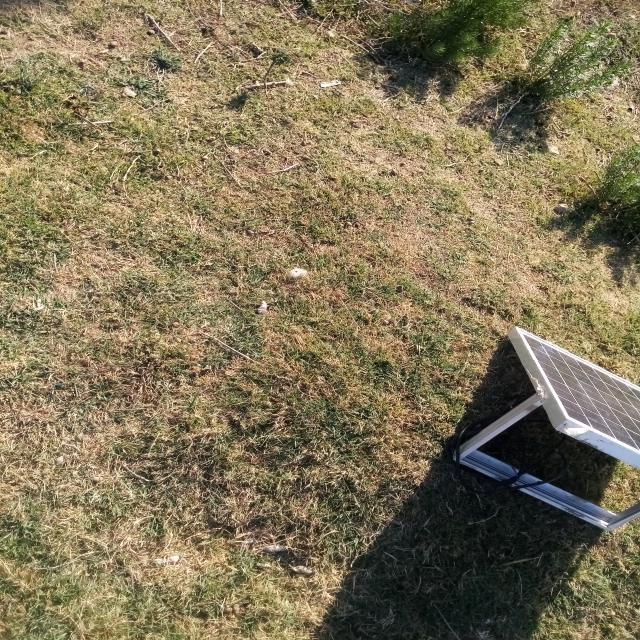Normal Solar Panel: (516, 326, 640, 452)
